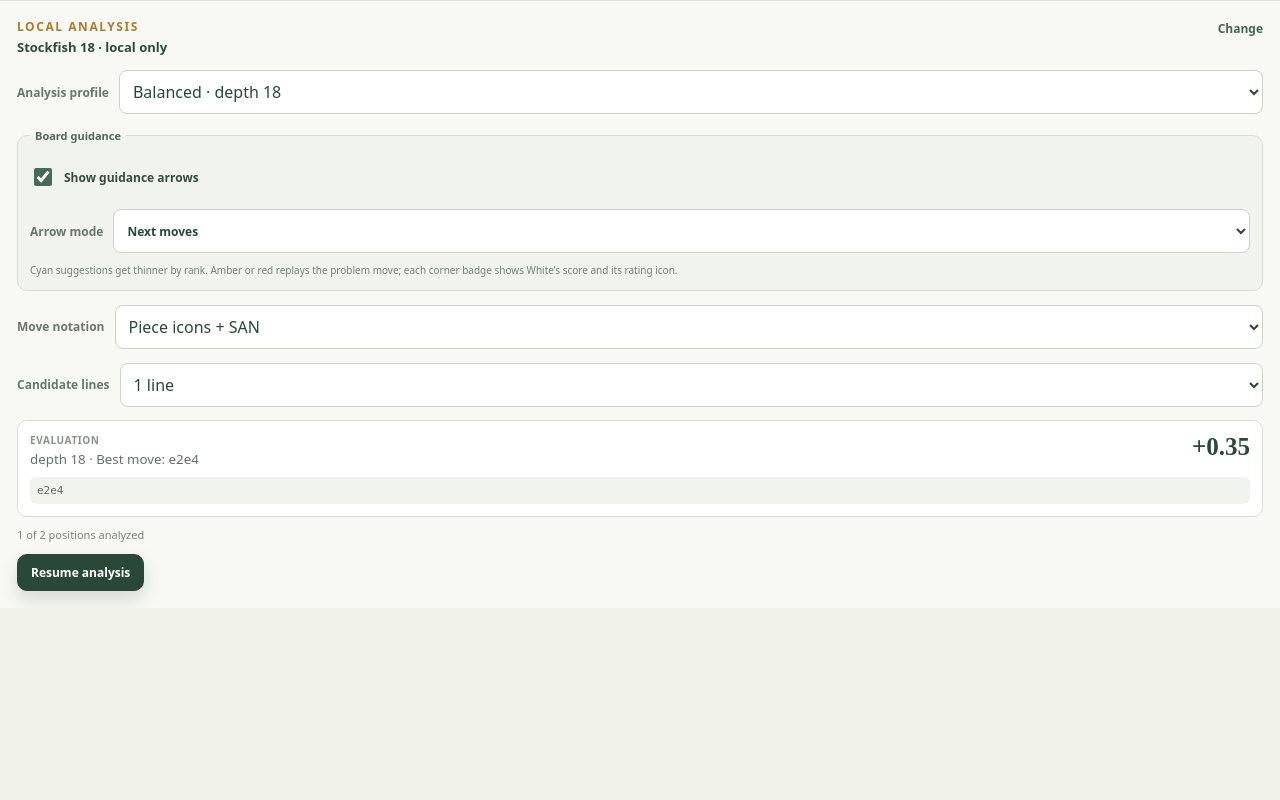
Test: EnginePanel › hides the previous cache and disables analysis while a new profile loads
Expected: the text "+0.35" is shown, [1192,432,1250,468]
Select "Deep · depth 22" in the dropdown labelled "Analysis profile" at coordinates (691, 92), box [119,70,1263,114]
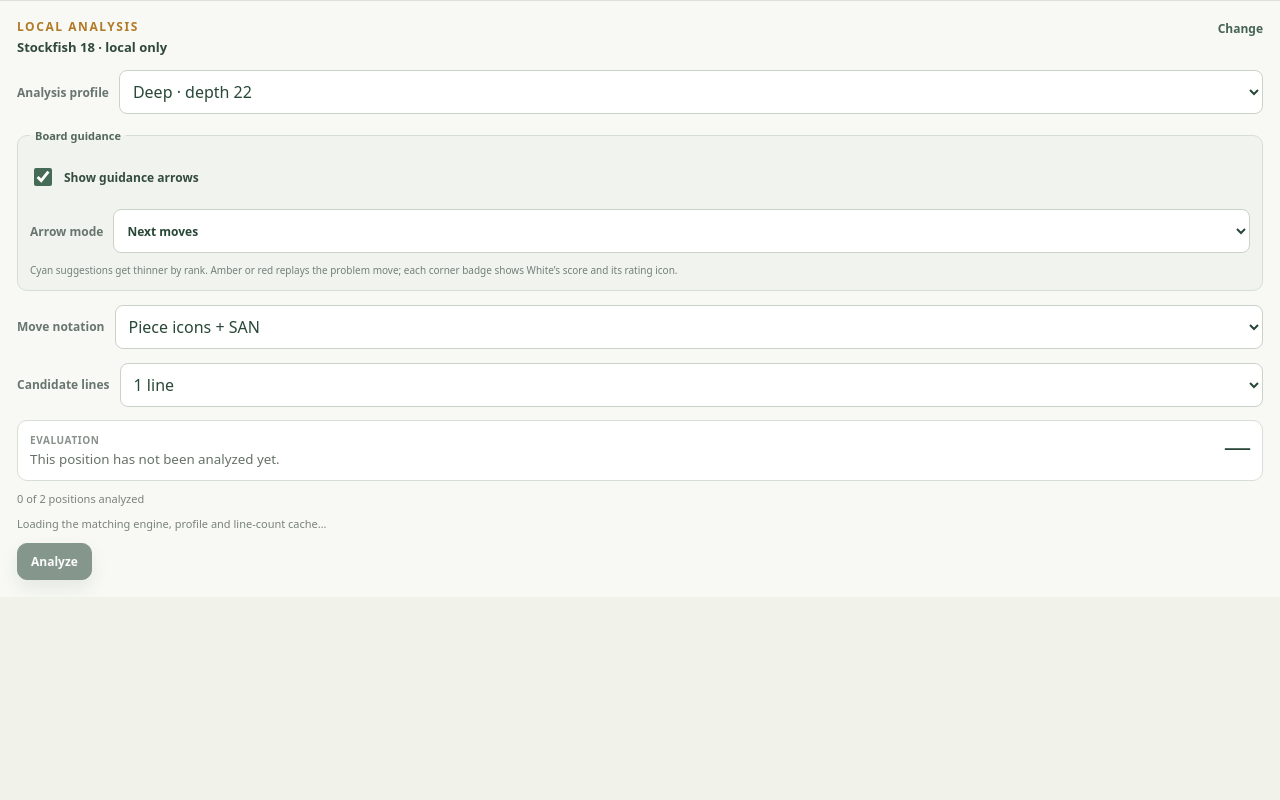
Now the button "Analyze" is disabled
Now the text "+0.35" is gone
Now the text "Loading the matching engine, profile and line-count cache…" is shown, box [17,516,326,530]
Click the button "Analyze" at coordinates (54, 561), box [17,542,92,580]
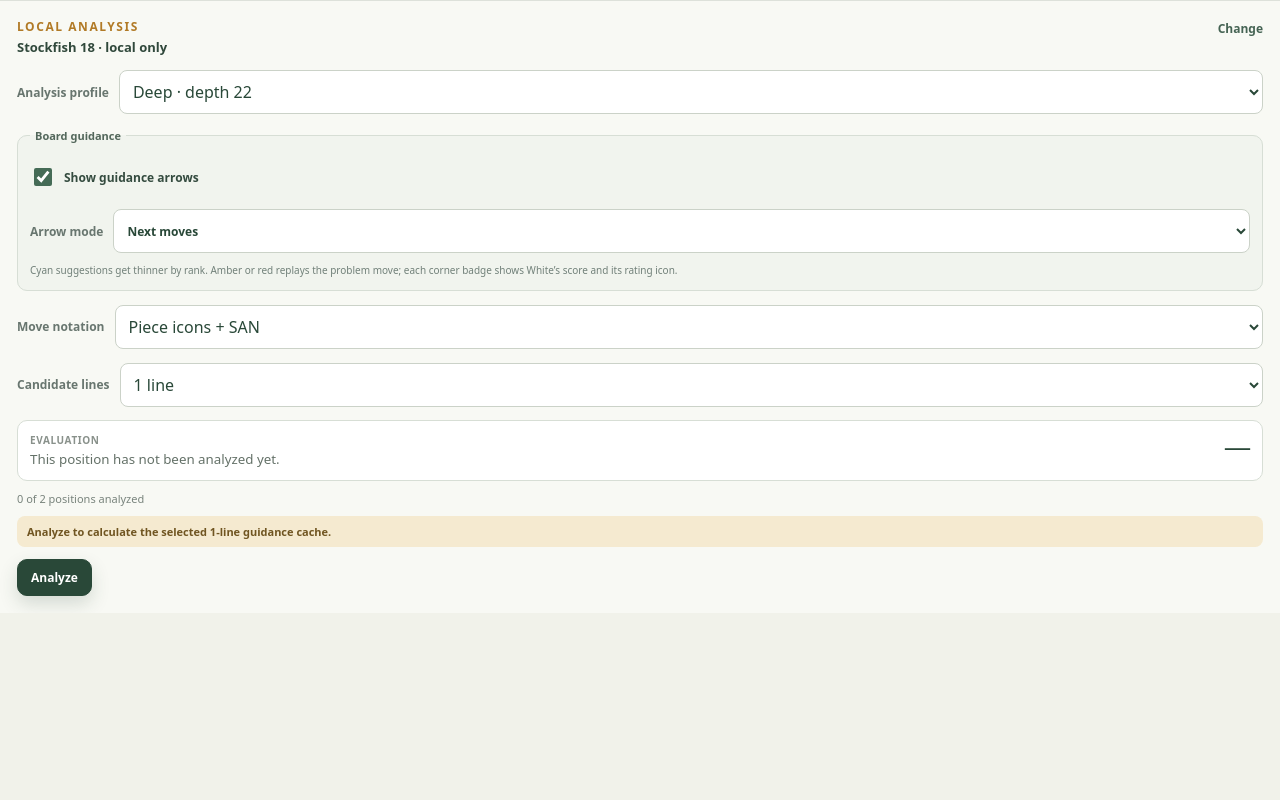
Now the button "Analyze" is enabled, box [17,558,92,596]
